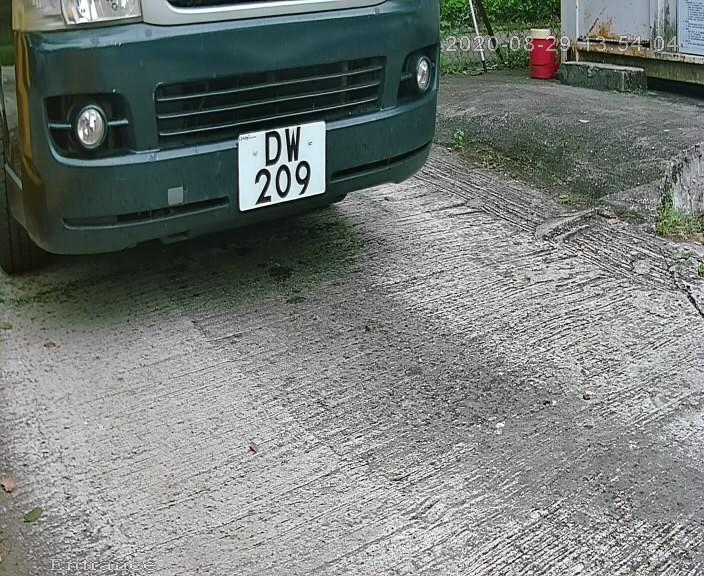Car: (16, 3, 494, 312)
License Plate: (230, 119, 337, 217)
